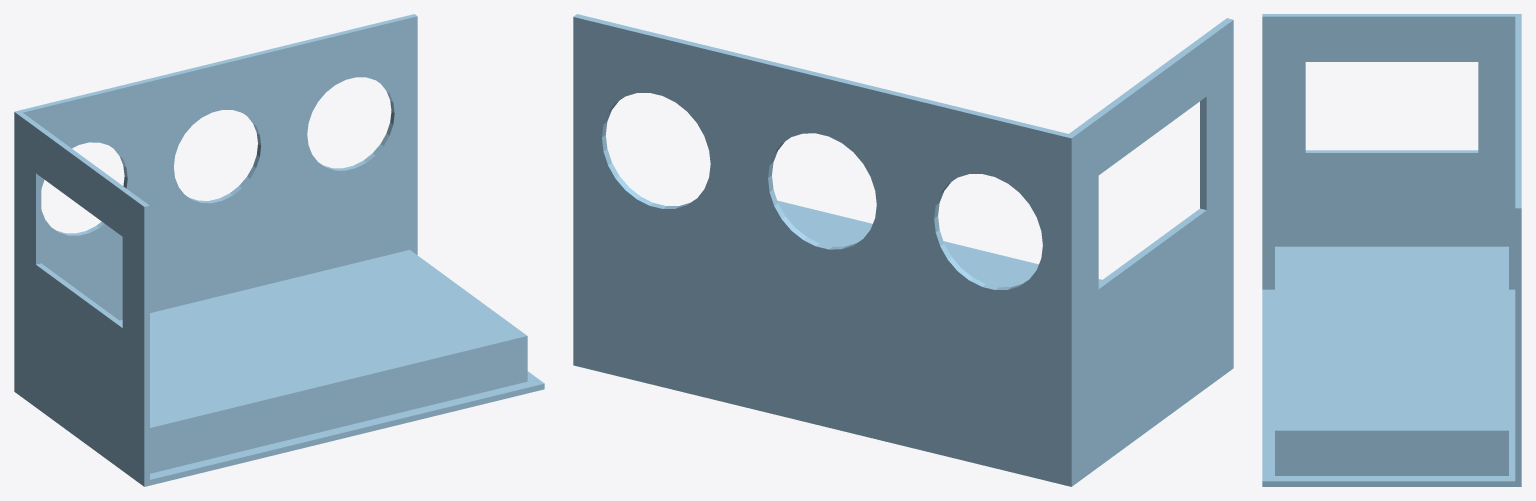
The model's file is CartoonHeroII_Spaceship-Bed.glb.
The picture shows the model from 3 angles, left to right: view 1: azimuth 30°, elevation 25°; view 2: azimuth 150°, elevation 25°; view 3: azimuth 270°, elevation 25°; orthographic projection. The views are drawn at different scales.
Visible parts, largest first — view 1: part-3, part-1, part-2, part-0; view 2: part-3, part-2, part-0, part-1; view 3: part-1, part-2, part-0, part-3.
Part boxes in pixels (left/top/right/bottom): part-3: left=14, top=14, right=417, bottom=387; part-1: left=120, top=250, right=527, bottom=473; part-2: left=17, top=112, right=149, bottom=481; part-0: left=14, top=371, right=544, bottom=486; part-3: left=573, top=14, right=1075, bottom=479; part-2: left=1069, top=18, right=1233, bottom=476; part-0: left=573, top=358, right=1233, bottom=486; part-1: left=777, top=200, right=1101, bottom=287; part-1: left=1275, top=246, right=1508, bottom=475; part-2: left=1262, top=14, right=1515, bottom=289; part-0: left=1262, top=289, right=1521, bottom=486; part-3: left=1515, top=14, right=1521, bottom=481.
Bounding box in the file's own units: 55 × 36.75 × 31.
